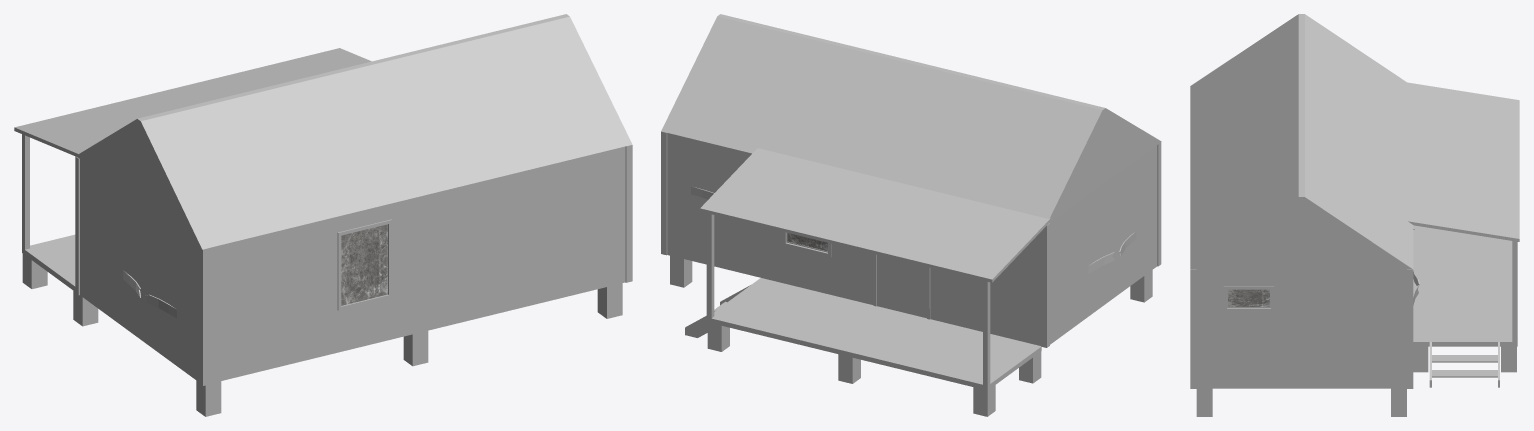
The model's file is Suburbs_house2.fbx.
3 renders of one model, left to right at view 1: azimuth 30°, elevation 25°; view 2: azimuth 150°, elevation 25°; view 3: azimuth 270°, elevation 25°, orthographic. The views are drawn at different scales.
Parts seen in each view (by area): view 1: SmallHouse1.040, Cube.006, Plane.052, Plane.051; view 2: Cube.006, SmallHouse1.040, Cube.024; view 3: Cube.006, SmallHouse1.040, Plane.045.
Boxes of the visible parts, <box> form: SmallHouse1.040: <box>22,134,632,416</box>; Cube.006: <box>14,14,632,249</box>; Plane.052: <box>341,227,387,304</box>; Plane.051: <box>341,224,387,305</box>; Cube.006: <box>661,14,1161,282</box>; SmallHouse1.040: <box>661,131,1161,416</box>; Cube.024: <box>877,255,926,317</box>; Cube.006: <box>1190,14,1519,269</box>; SmallHouse1.040: <box>1190,225,1517,416</box>; Plane.045: <box>1228,289,1269,306</box>.
Size of the model in its own units: 837 by 467 by 626.
